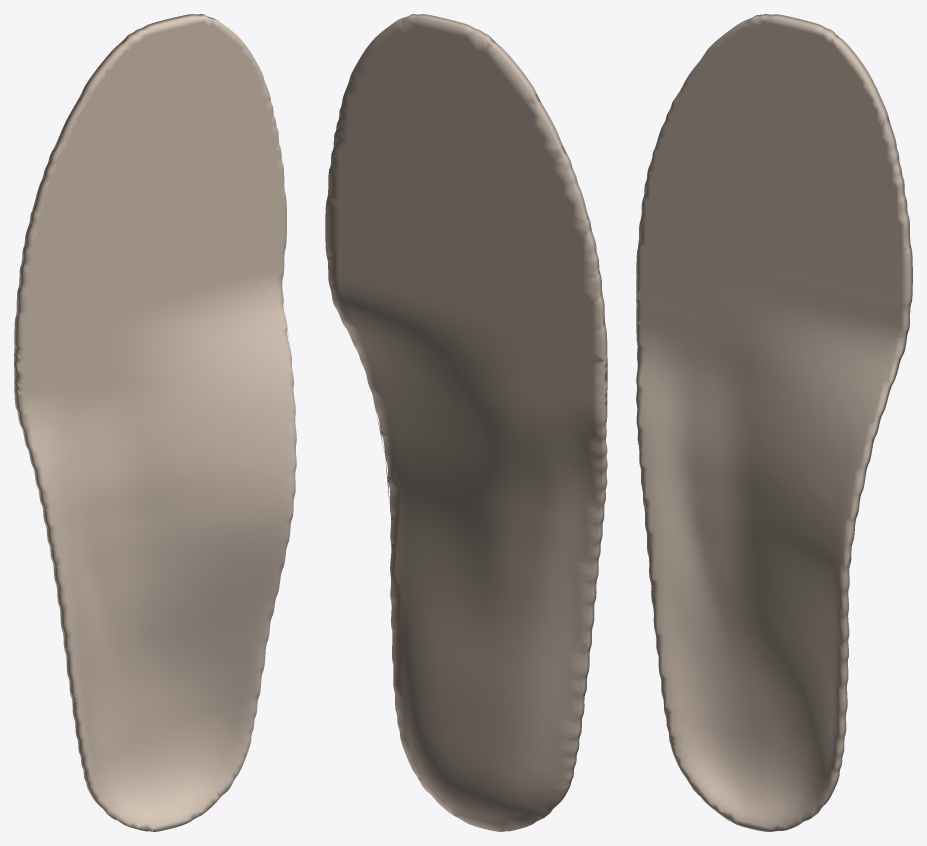
The model's file is PAIR-TOP-COVER_T1_addon.glb.
3 renders of one model, left to right at view 1: azimuth 30°, elevation 25°; view 2: azimuth 150°, elevation 25°; view 3: azimuth 330°, elevation 25°, orthographic. The views are drawn at different scales.
Parts seen in each view (by area): view 1: geometry_0; view 2: geometry_0; view 3: geometry_0.
Part boxes in pixels (x1=…): geometry_0: x1=14, y1=14, x2=296, y2=831; geometry_0: x1=325, y1=14, x2=607, y2=831; geometry_0: x1=636, y1=14, x2=912, y2=831.
Size of the model in its own units: 99.51 by 280 by 24.81.
